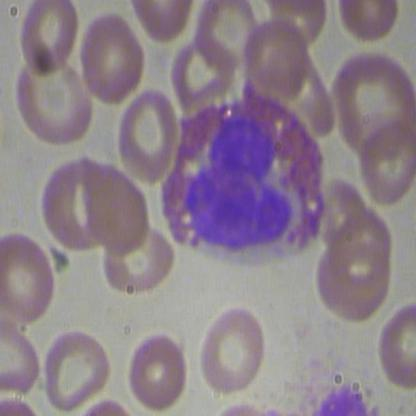RBC: (108, 84, 187, 190), (77, 6, 151, 106), (13, 57, 96, 144), (121, 319, 196, 409), (38, 324, 113, 414), (194, 304, 268, 393), (1, 228, 63, 332), (6, 0, 85, 78), (87, 161, 151, 253), (355, 110, 415, 204), (374, 293, 415, 399)
WBC: (156, 96, 334, 260)
